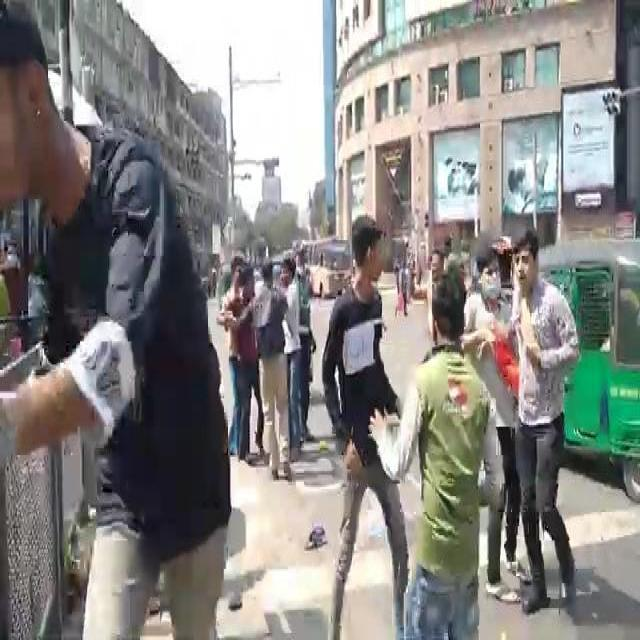fight: (404, 215, 588, 640), (210, 240, 322, 468)
